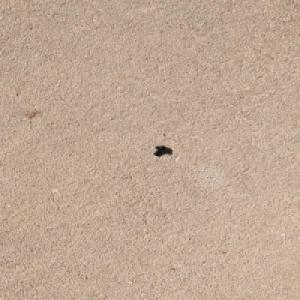BoltWasher: (152, 145, 168, 155)
